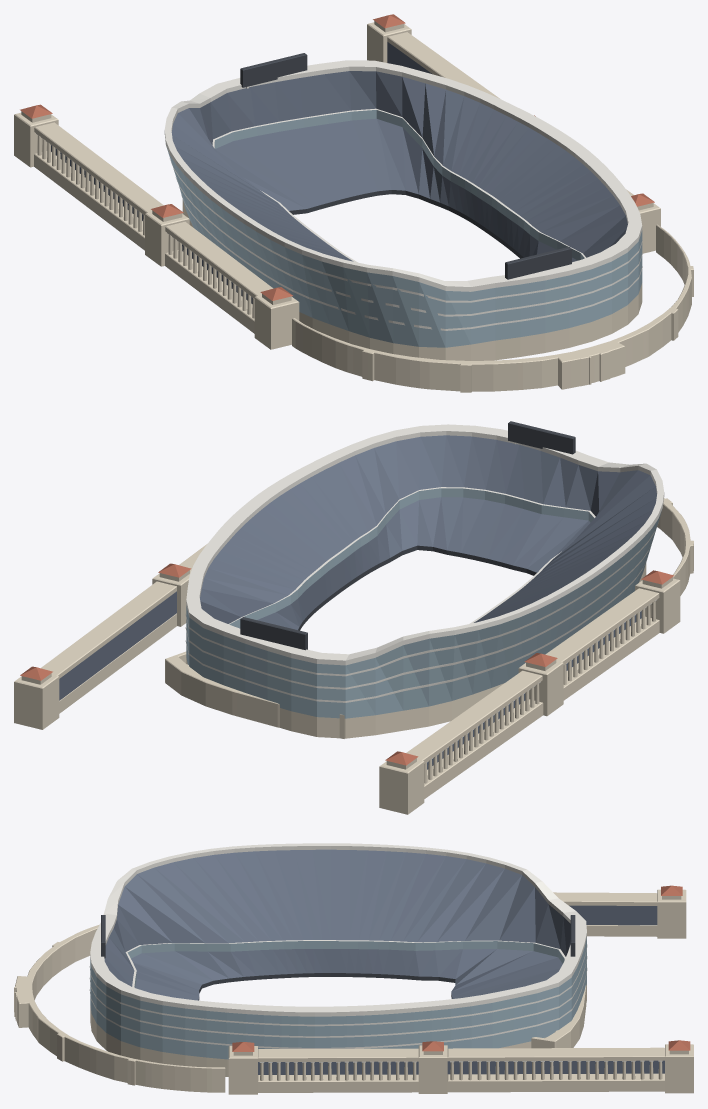
The model's file is chi-soldier-field.glb.
The picture shows the model from 3 angles, top to bottom: view 1: azimuth 30°, elevation 25°; view 2: azimuth 150°, elevation 25°; view 3: azimuth 270°, elevation 25°; orthographic projection. The views are drawn at different scales.
Visible parts, largest first — view 1: Soldier Field; view 2: Soldier Field; view 3: Soldier Field.
Boxes of the visible parts, left/top/right/bottom form: Soldier Field: left=14, top=14, right=693, bottom=392; Soldier Field: left=14, top=421, right=693, bottom=814; Soldier Field: left=14, top=843, right=693, bottom=1094.
Size of the model in its own units: 209 by 49 by 351.
